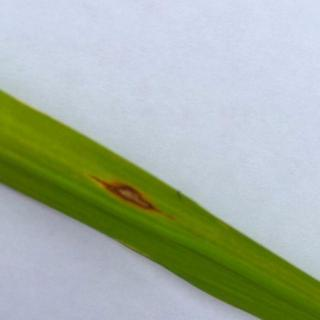Blast: (98, 148, 169, 258)
